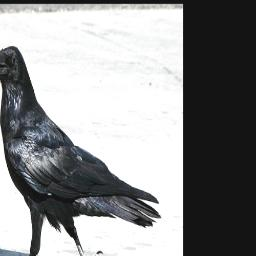Crow: (0, 45, 162, 256)
